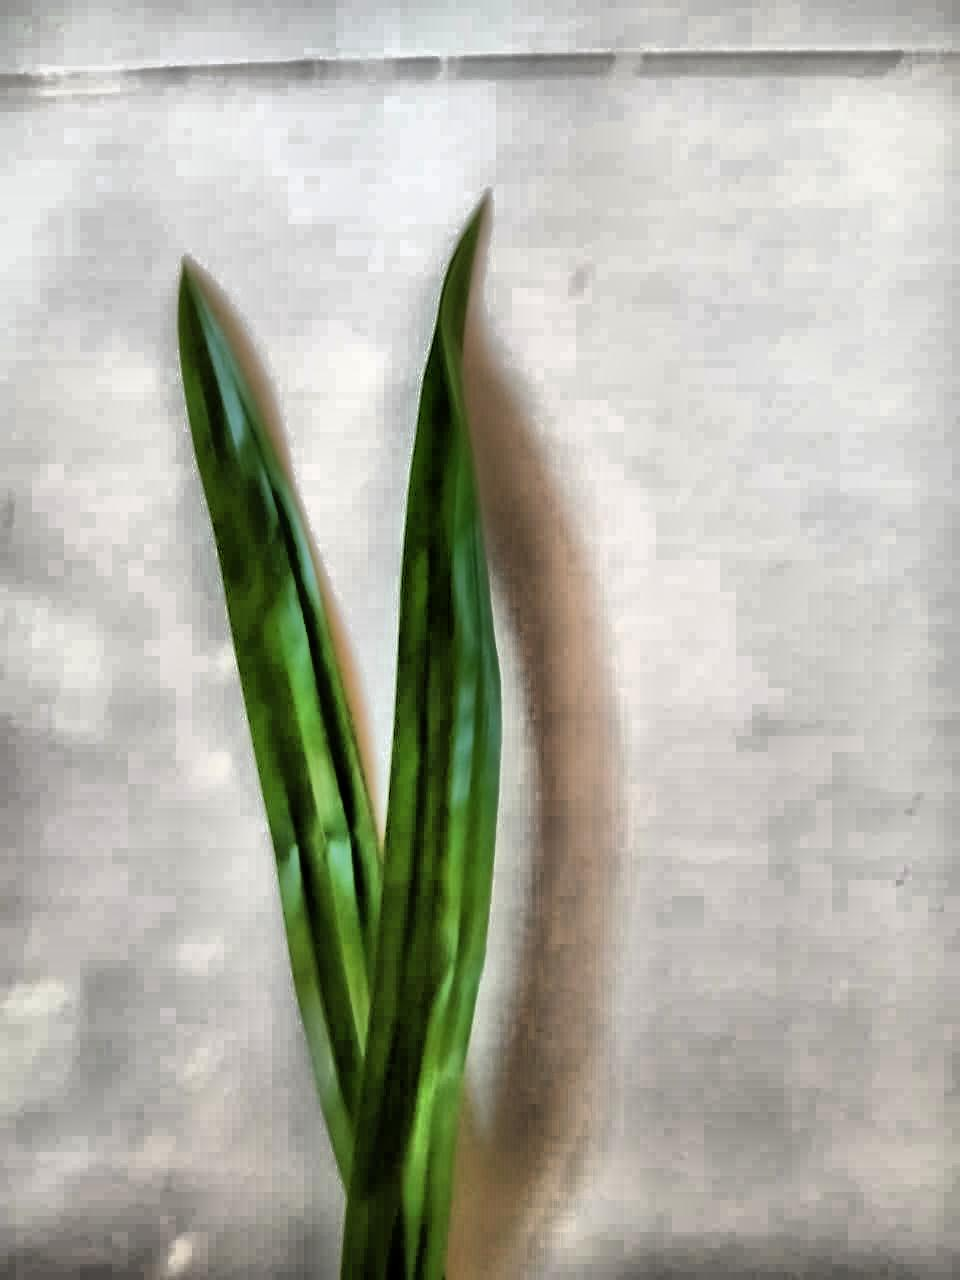daun pandan: (178, 209, 499, 1279)
